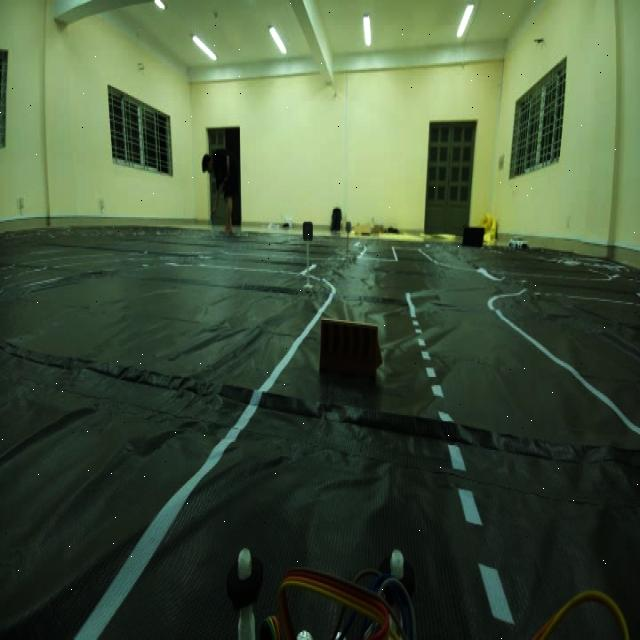roadblock: (309, 300, 385, 403)
